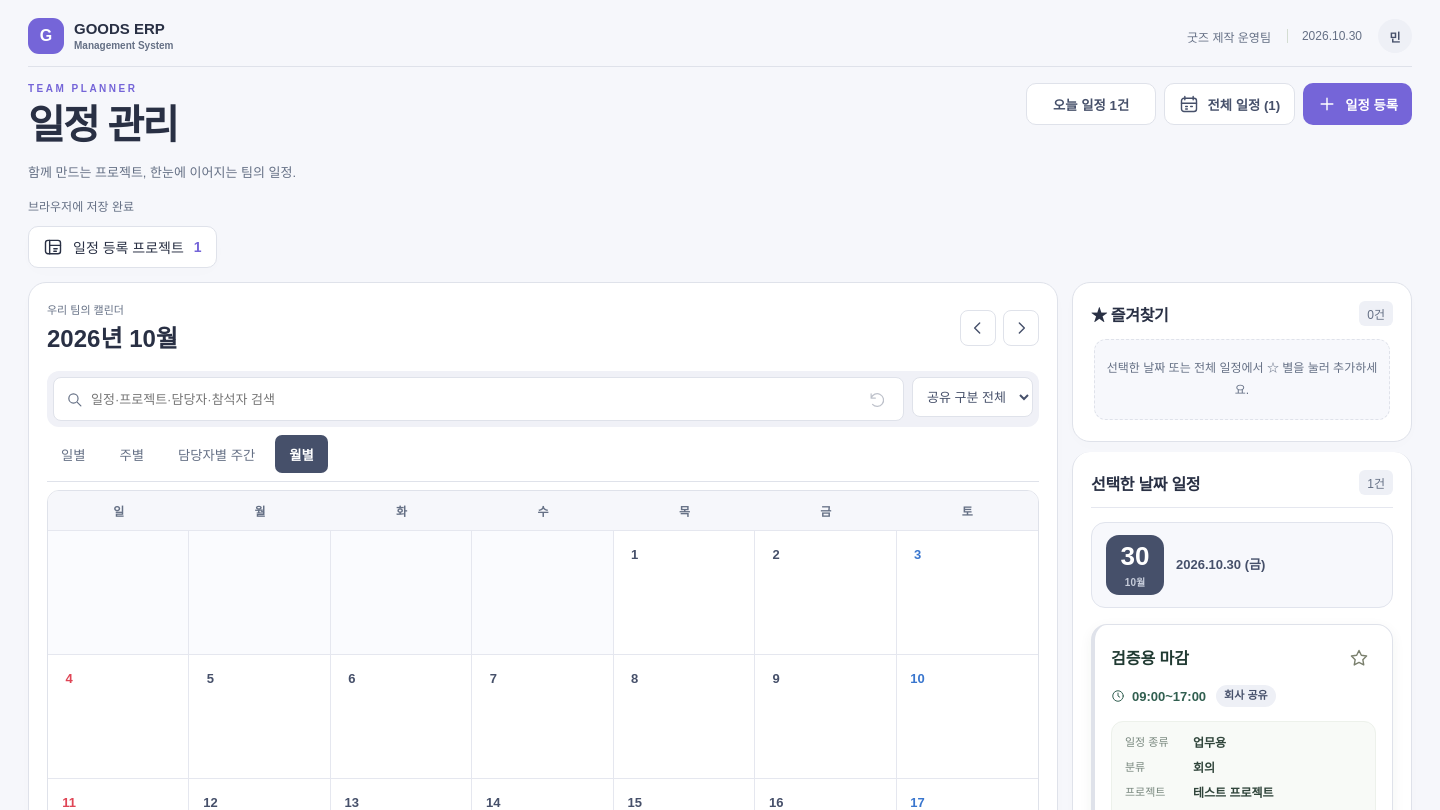
Test: 팀원 목록 진입점은 숨기고 담당자별 일정에는 일정에 등록된 사람을 표시한다
This screenshot has width=1440, height=810.
Step 1. Click the tab "담당자별 주간" → x=217, y=454, box x1=164 y1=435 x2=269 y2=473
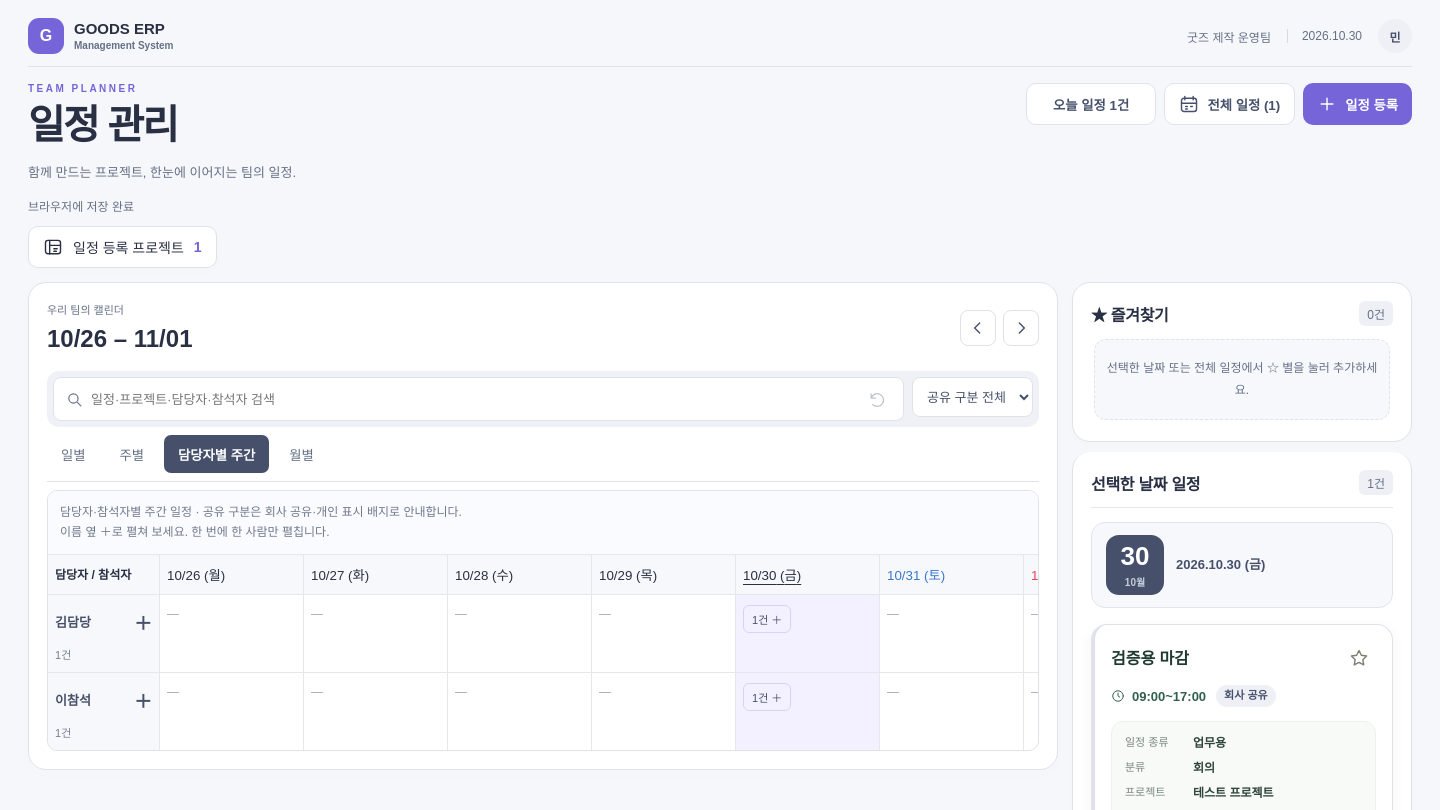
Result: the button with aria-label "김담당 일정 펼치기" is shown at x1=55 y1=605 x2=152 y2=639
Result: the button with aria-label "이참석 일정 펼치기" is shown at x1=55 y1=683 x2=152 y2=717
